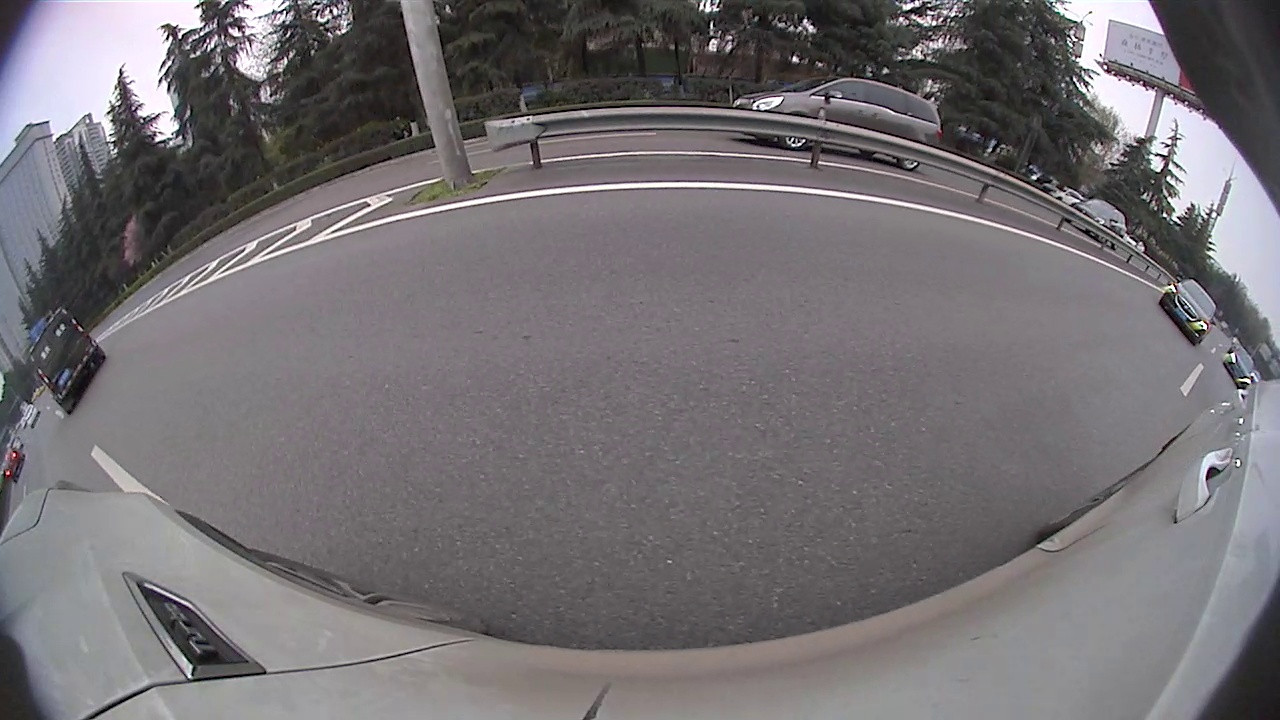car: (730, 72, 944, 171), (27, 301, 106, 415), (1156, 274, 1220, 349), (1068, 195, 1128, 251), (1221, 342, 1258, 390)
front: (782, 114, 812, 148)
rear: (903, 140, 925, 168)
